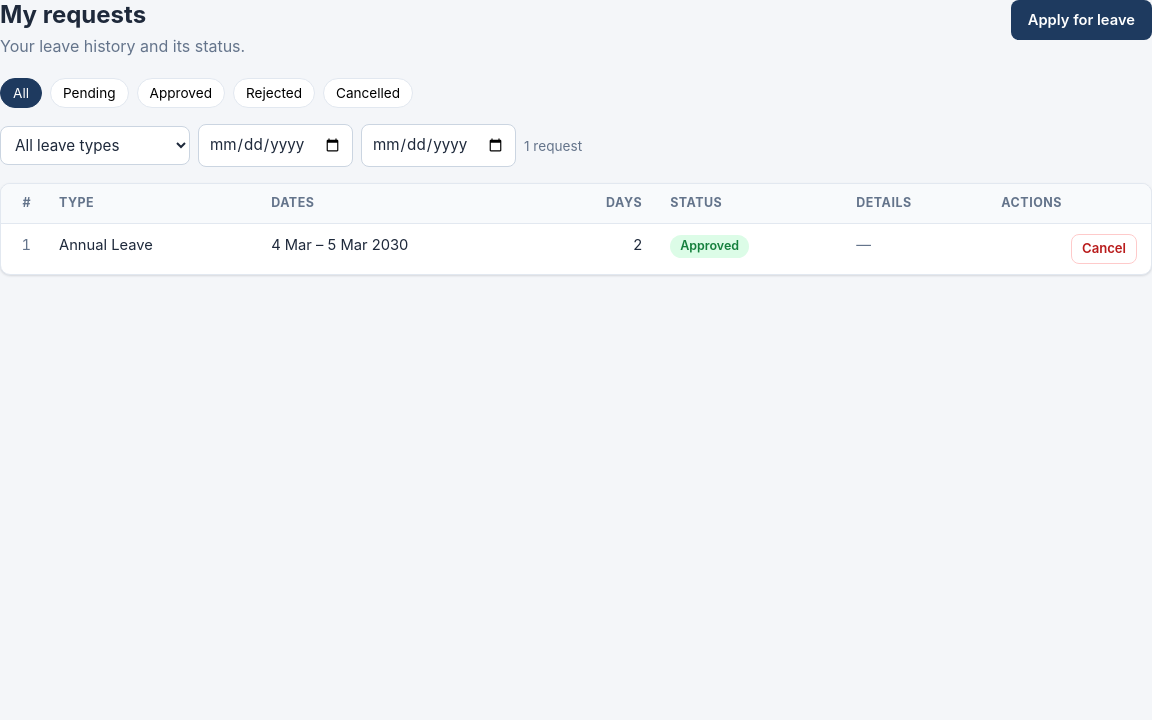
Test case: HistoryPage › cancels a request after confirmation
Click the button "Cancel" at (1104,249), box x1=1071 y1=234 x2=1137 y2=264
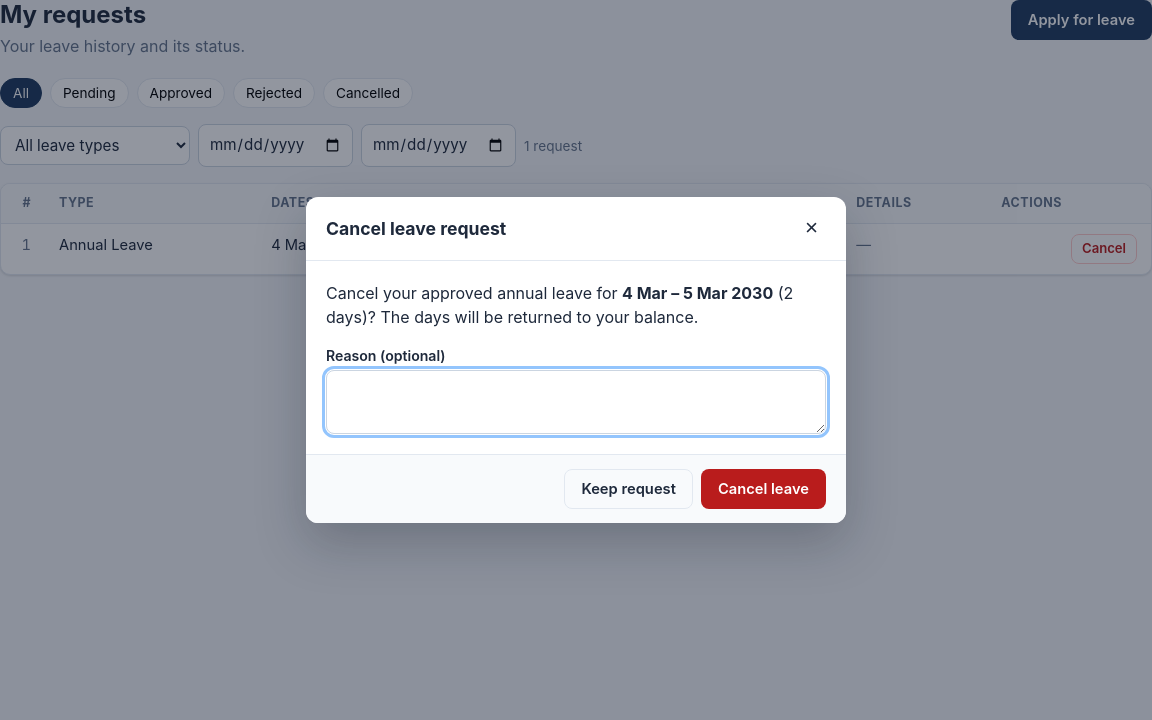
Now the dialog "Cancel leave request" shows "The days will be returned to your balance.", box x1=376 y1=307 x2=698 y2=327
Type "Plans changed" into the text box labelled "Reason (optional)" at (576,402), box x1=326 y1=370 x2=826 y2=434
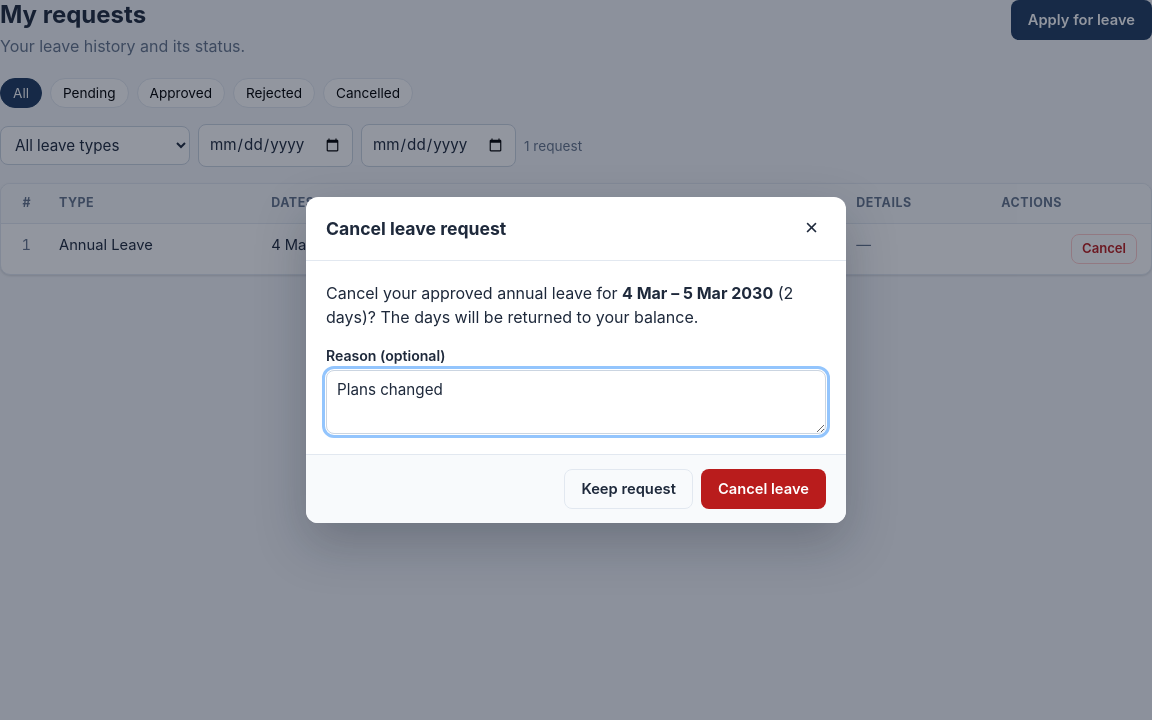
Click the button "Cancel leave" at (763,489), box x1=701 y1=468 x2=826 y2=509
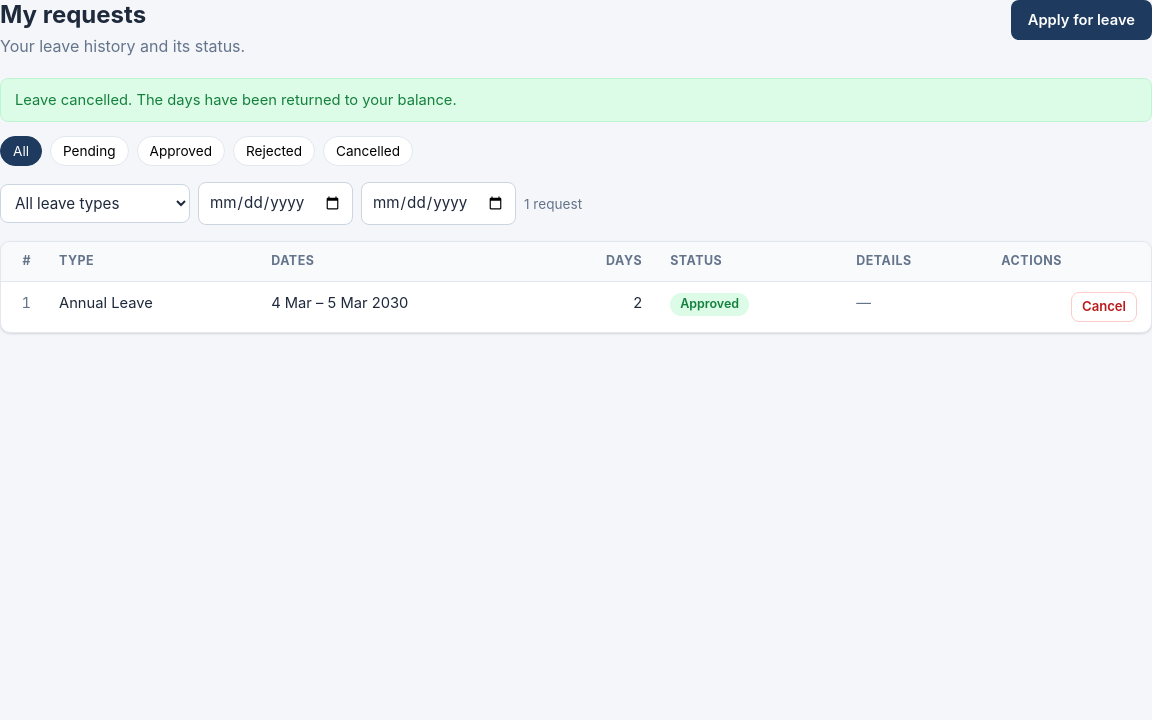
Now the text "Leave cancelled. The days have been returned to your balance." is shown, box x1=15 y1=89 x2=457 y2=111
Now the dialog is gone
